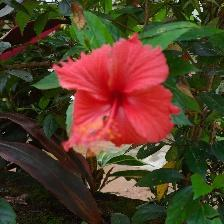hibiscus: (54, 33, 183, 162)
